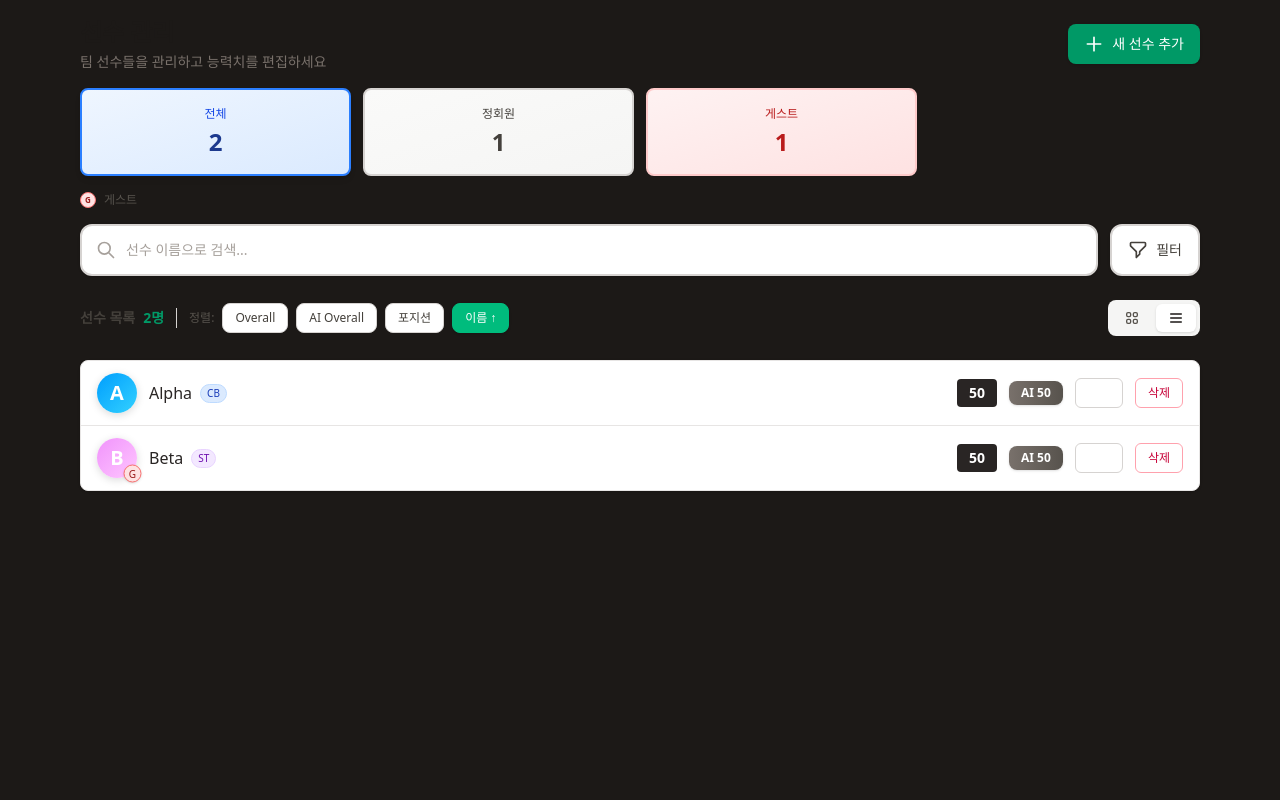
Test: PlayersPage - bug hunting › 멤버십/포지션 필터: 정회원 + DF 필터 시 결과 1명
This screenshot has width=1280, height=800.
Click the text "정회원" at (498,114), box [482, 105, 515, 122]
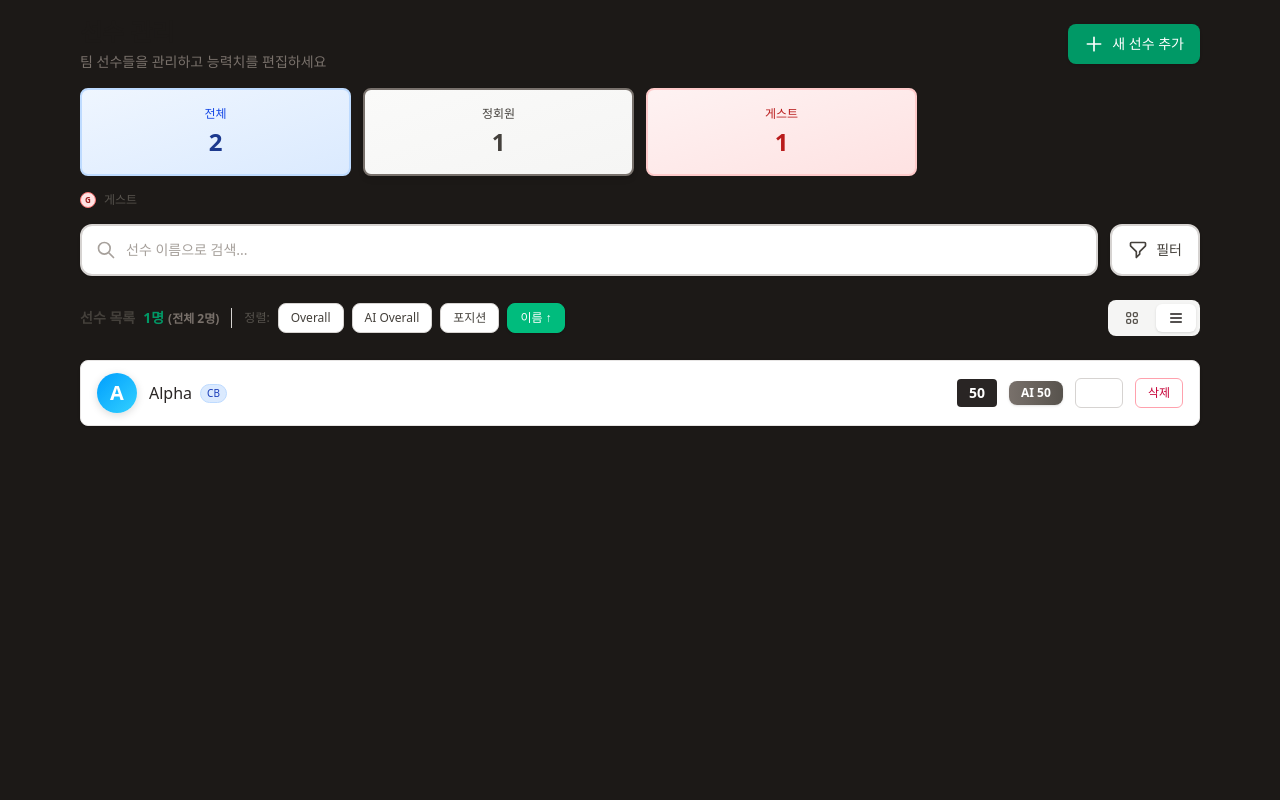
Click the button "필터" at (1155,250), box [1110, 224, 1200, 276]
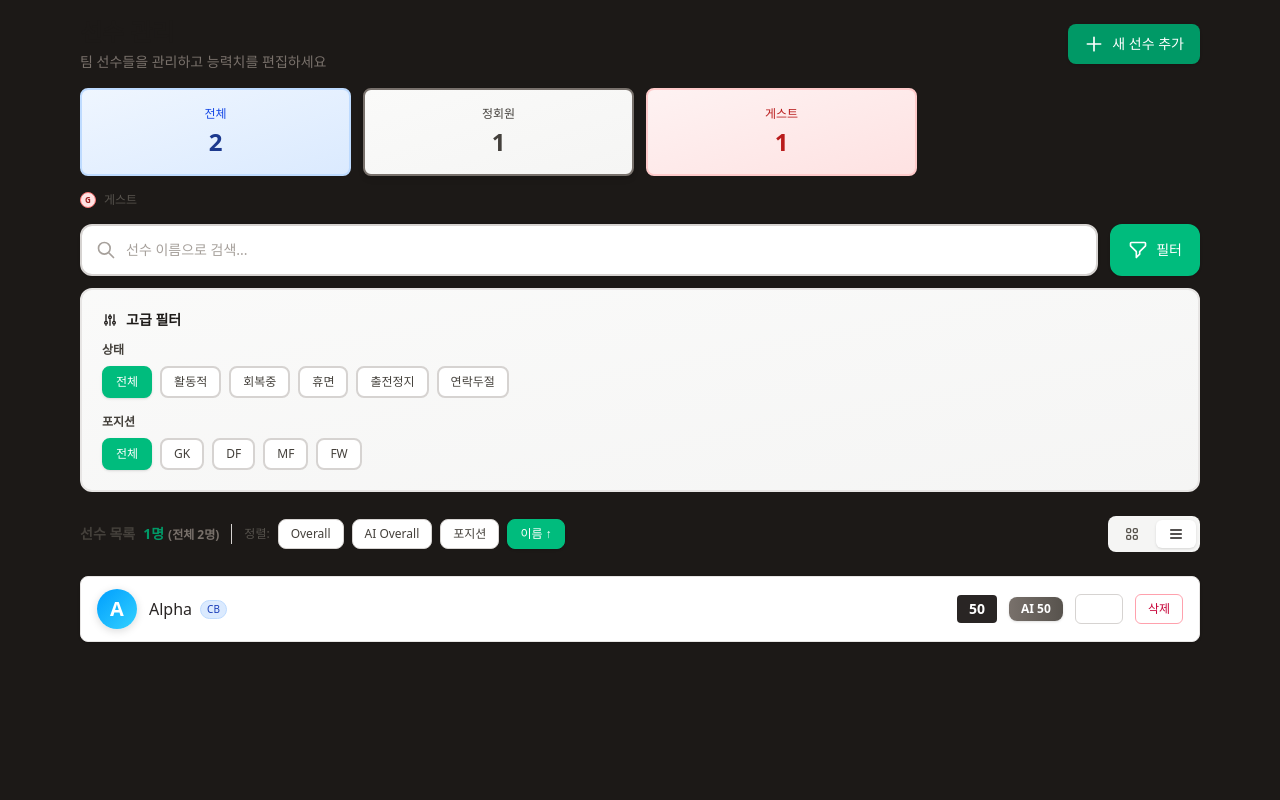
Click the button "DF" at (234,454), box [212, 438, 255, 470]
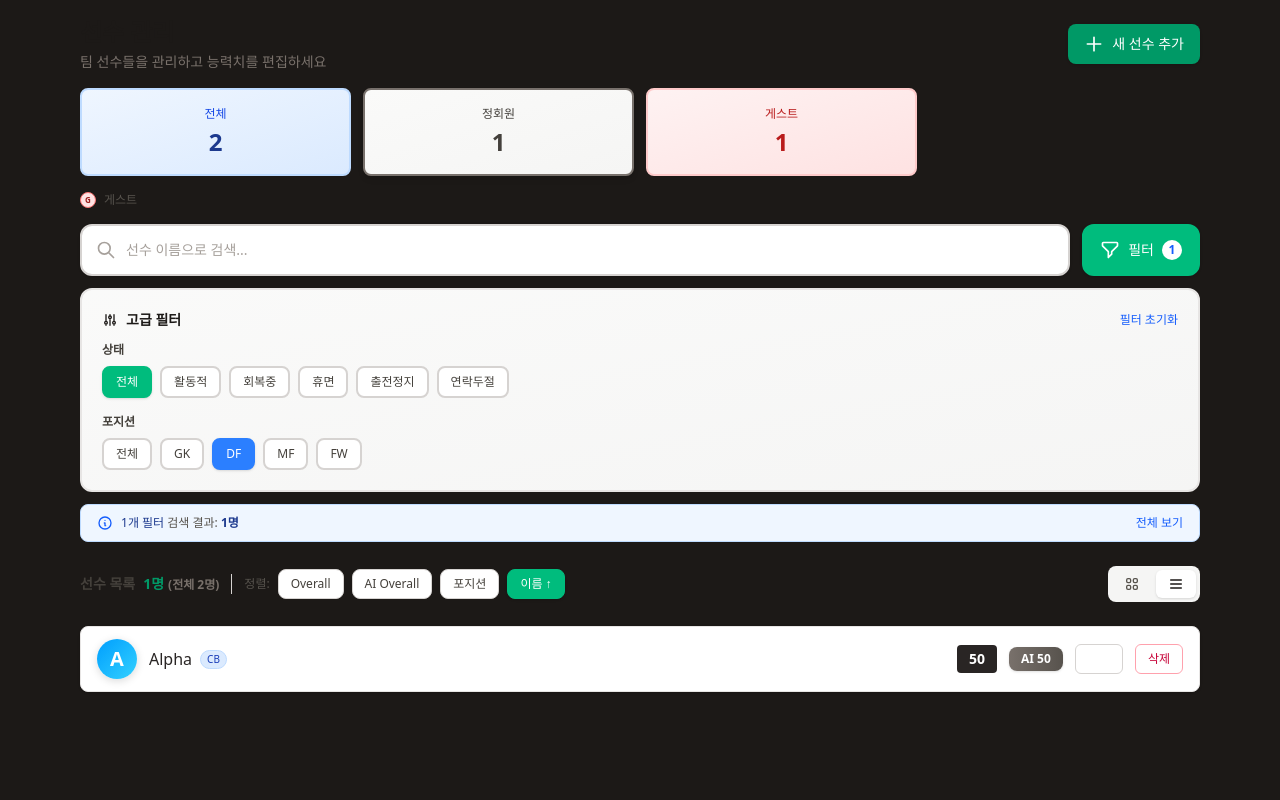
Result: the number of buttons "편집" is 1 at [1075, 644, 1123, 674]
